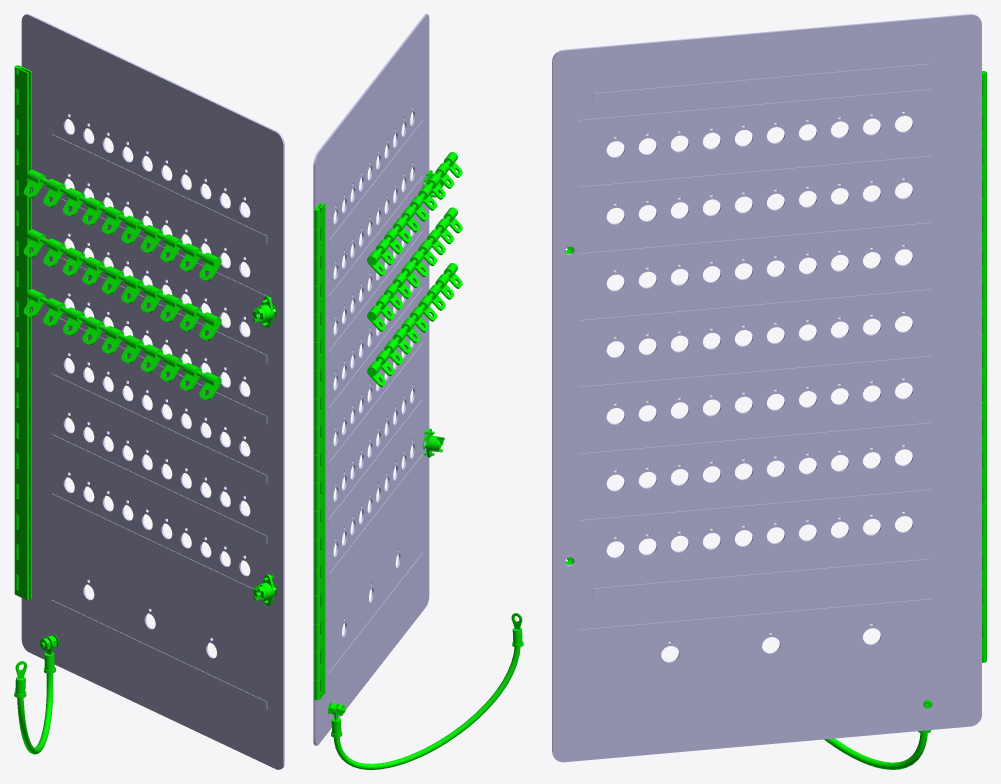
The picture shows the model from 3 angles, left to right: view 1: azimuth 30°, elevation 25°; view 2: azimuth 150°, elevation 25°; view 3: azimuth 270°, elevation 25°; orthographic projection. The views are drawn at different scales.
Visible parts, largest first — view 1: PartBody (×12), MS20001-TYPE H (×2), Surface.12; view 2: PartBody (×12), MS20001-TYPE H (×2), Surface.12; view 3: PartBody (×11), MS20001-TYPE H (×2), Surface.12.
Boxes of the visible parts, bbox=[...] form: PartBody (×12): bbox=[21, 14, 284, 769]; MS20001-TYPE H (×2): bbox=[14, 65, 31, 600]; Surface.12: bbox=[17, 673, 53, 754]; PartBody (×12): bbox=[313, 14, 462, 745]; MS20001-TYPE H (×2): bbox=[314, 202, 325, 700]; Surface.12: bbox=[333, 647, 520, 769]; PartBody (×11): bbox=[552, 14, 981, 762]; MS20001-TYPE H (×2): bbox=[982, 71, 986, 662]; Surface.12: bbox=[824, 733, 927, 769].
Bounding box in the file's own units: 6.42 × 22.64 × 11.63.
